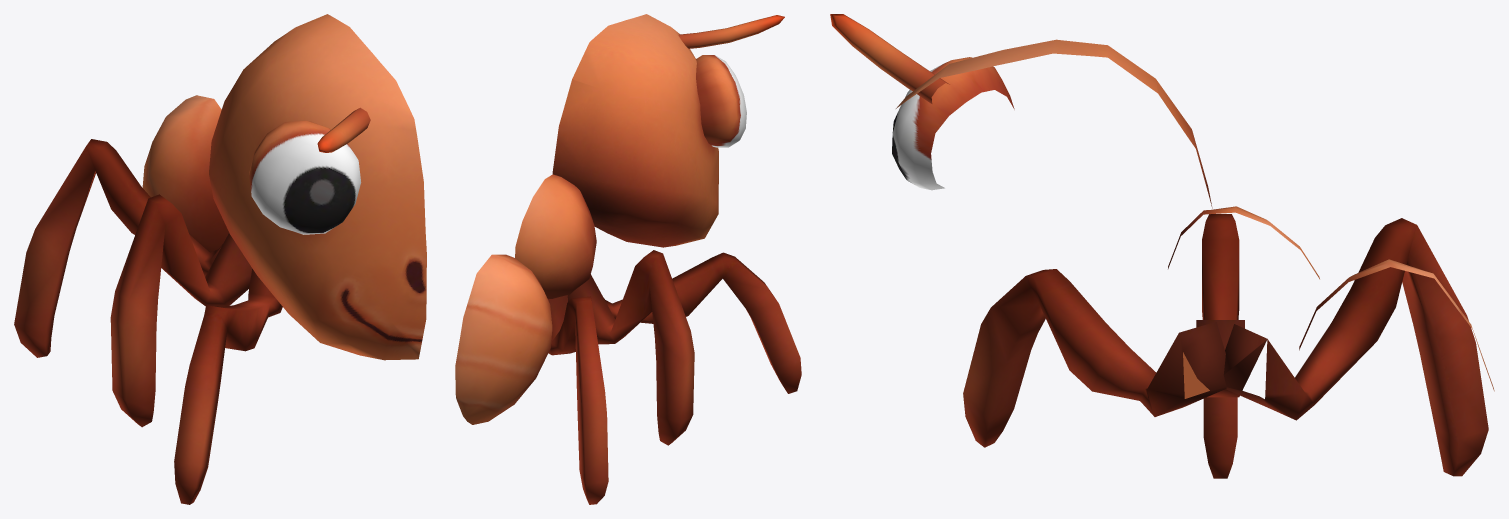
Rendered from ant_left.glb.
3 views of the same model, side by side, from view 1: azimuth 30°, elevation 25°; view 2: azimuth 150°, elevation 25°; view 3: azimuth 270°, elevation 25° (orthographic). The views are drawn at different scales.
Visible parts, largest first — view 1: ant_left; view 2: ant_left; view 3: ant_left.
Boxes of the visible parts, x1=… form: ant_left: x1=14, y1=14, x2=426, y2=504; ant_left: x1=455, y1=14, x2=801, y2=504; ant_left: x1=830, y1=14, x2=1494, y2=478.
Bounding box in the file's own units: 0.4572 × 0.8783 × 1.04.
1 material, 1 textured.
